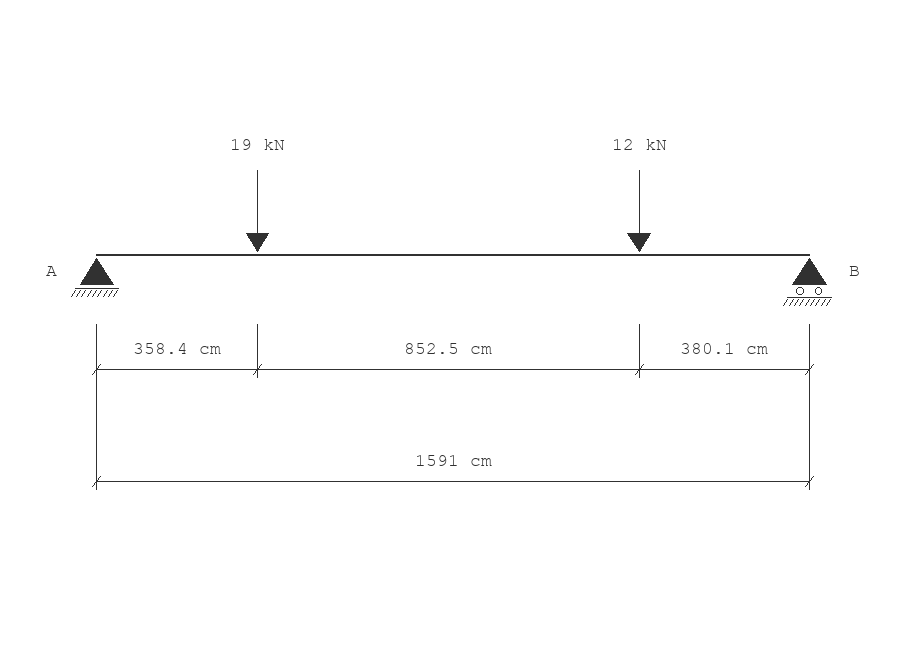pin_support: (71, 258, 119, 297)
point_load: (627, 170, 651, 252), (246, 170, 269, 252)
roller_support: (783, 258, 832, 306)
